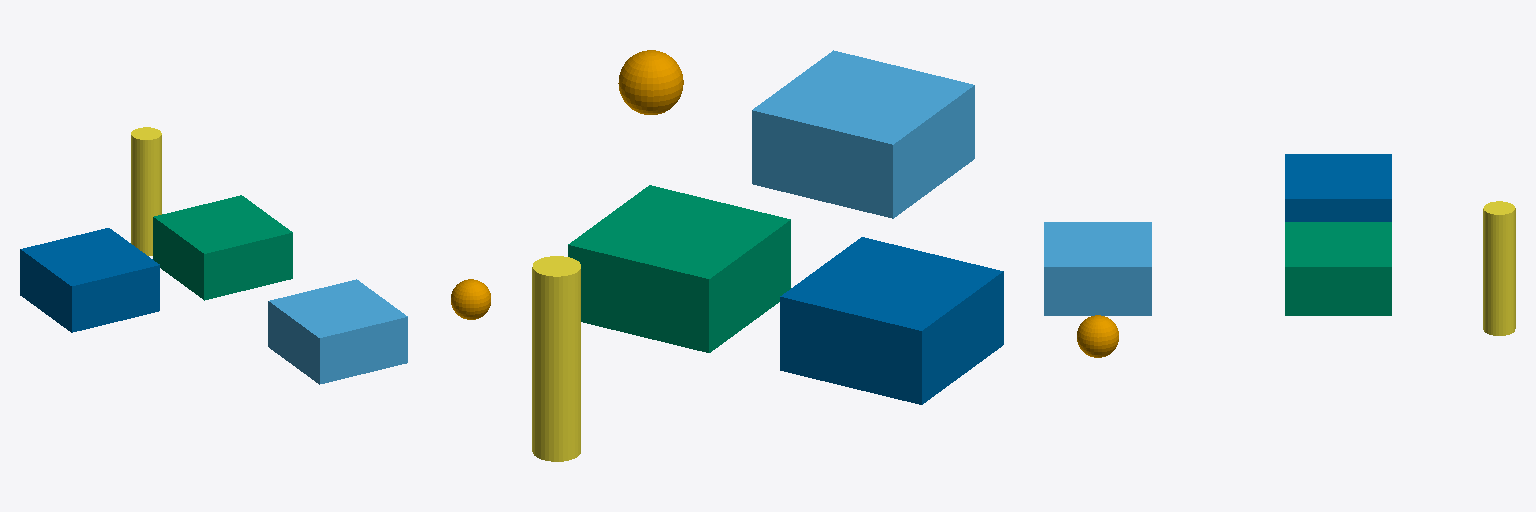
robot.urdf — planetary_drive:
<?xml version="1.0" ?>
<robot name="planetary_drive">
  <link name="axial_urging_means">
    <visual>
      <geometry>
        <sphere radius="0.008"/>
      </geometry>
    </visual>
  </link>
  <link name="internal_gear">
    <visual>
      <geometry>
        <box size="0.04 0.04 0.02"/>
      </geometry>
    </visual>
  </link>
  <link name="planet_gears">
    <visual>
      <geometry>
        <box size="0.04 0.04 0.02"/>
      </geometry>
    </visual>
  </link>
  <link name="planet_link">
    <visual>
      <geometry>
        <cylinder radius="0.006" length="0.05"/>
      </geometry>
    </visual>
  </link>
  <link name="sun_gear">
    <visual>
      <geometry>
        <box size="0.04 0.04 0.02"/>
      </geometry>
    </visual>
  </link>
  <joint name="_attach_planet_gears_to_internal_gear" type="fixed">
    <parent link="planet_gears"/>
    <child link="internal_gear"/>
    <origin xyz="0.0000 -0.0900 0.0000" rpy="0 0 0"/>
  </joint>
  <joint name="_attach_planet_gears_to_planet_link" type="fixed">
    <parent link="planet_gears"/>
    <child link="planet_link"/>
    <origin xyz="0.0000 0.0600 0.0000" rpy="0 0 0"/>
  </joint>
  <joint name="_attach_sun_gear_to_axial_urging_means" type="fixed">
    <parent link="sun_gear"/>
    <child link="axial_urging_means"/>
    <origin xyz="0.1200 -0.0900 0.0000" rpy="0 0 0"/>
  </joint>
  <joint name="_attach_sun_gear_to_planet_gears" type="fixed">
    <parent link="sun_gear"/>
    <child link="planet_gears"/>
    <origin xyz="0.0600 0.0000 0.0000" rpy="0 0 0"/>
  </joint>
</robot>

--- Render facts (derived) ---
Views: 3 orthographic renders of the robot side by side, from view 1: azimuth 30°, elevation 25°; view 2: azimuth 150°, elevation 25°; view 3: azimuth 270°, elevation 25°.
Model planetary_drive with 5 links and 4 joints (4 fixed), rooted at sun_gear, posed all joints at 0.
Links seen in each view (by area): view 1: internal_gear, sun_gear, planet_gears, planet_link, axial_urging_means; view 2: sun_gear, internal_gear, planet_gears, planet_link, axial_urging_means; view 3: internal_gear, planet_gears, sun_gear, planet_link, axial_urging_means.
Link boxes in pixels (bbox=[...]): internal_gear: bbox=[268, 279, 407, 384]; sun_gear: bbox=[20, 228, 159, 332]; planet_gears: bbox=[153, 195, 292, 300]; planet_link: bbox=[131, 127, 161, 255]; axial_urging_means: bbox=[451, 279, 490, 319]; sun_gear: bbox=[780, 237, 1003, 404]; internal_gear: bbox=[752, 50, 974, 218]; planet_gears: bbox=[568, 185, 790, 352]; planet_link: bbox=[532, 256, 580, 461]; axial_urging_means: bbox=[618, 50, 683, 114]; internal_gear: bbox=[1044, 222, 1151, 315]; planet_gears: bbox=[1285, 222, 1391, 315]; sun_gear: bbox=[1285, 154, 1391, 221]; planet_link: bbox=[1483, 201, 1515, 335]; axial_urging_means: bbox=[1077, 315, 1118, 357].
Size in the robot's own frame: 0.148 by 0.176 by 0.05 metres.
Geometry: primitives only (box / cylinder / sphere), no mesh files.
